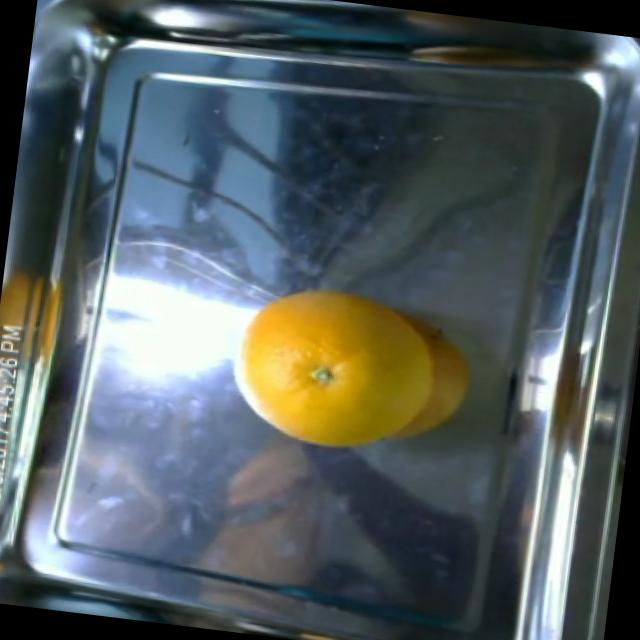Fruit: (288, 278, 492, 477)
